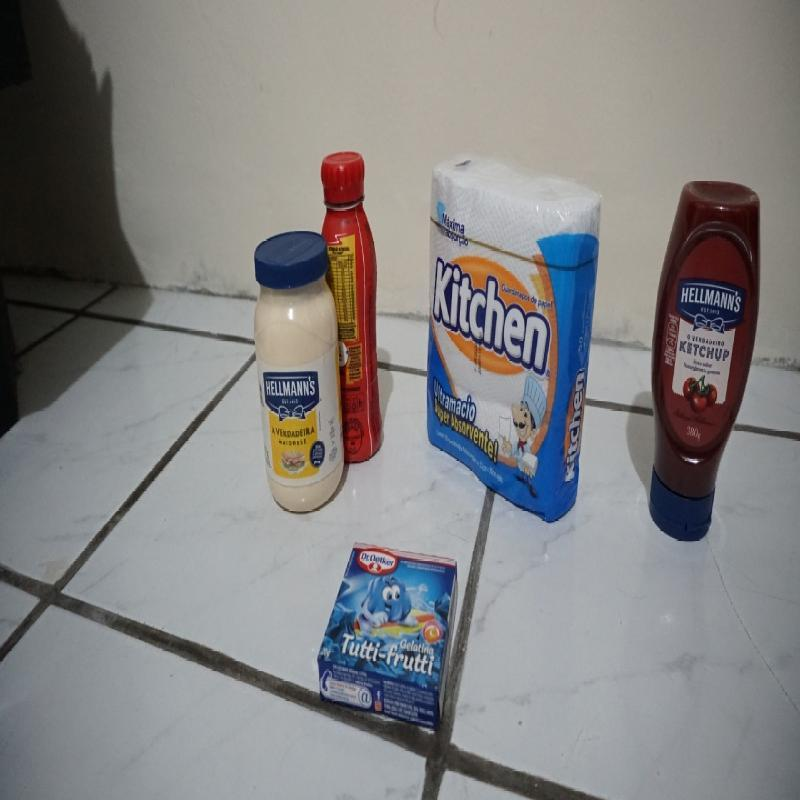Chocolate Milk: (322, 151, 384, 466)
Gelatine: (316, 543, 461, 730)
Ketchup: (648, 179, 764, 544)
Mayonnaise: (253, 231, 348, 516)
Napkin: (426, 154, 603, 520)
